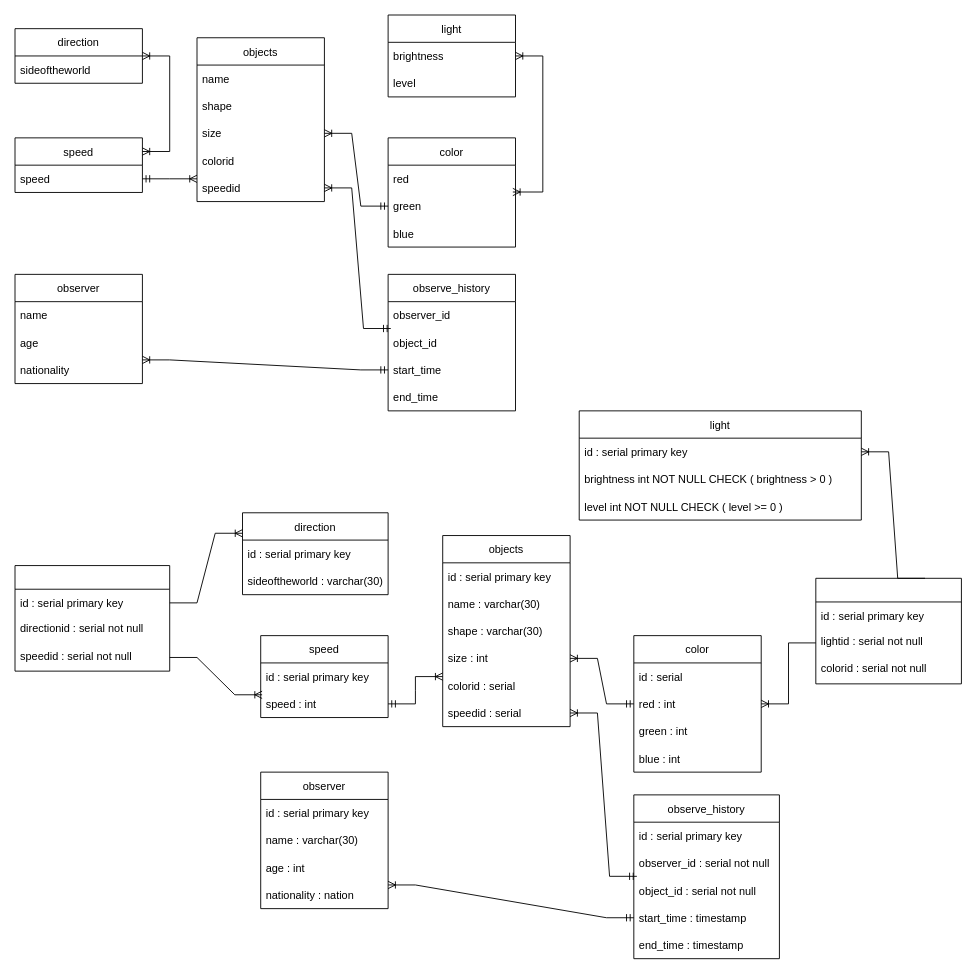
Some shapes in this 976 by 974 pixel diagram are drawn without their labels. The box of each missing label's shape, as (x1, y1, x2, y2) in pixels:
dirspeed: (14, 565, 170, 671)
lightcolor: (815, 577, 961, 684)
